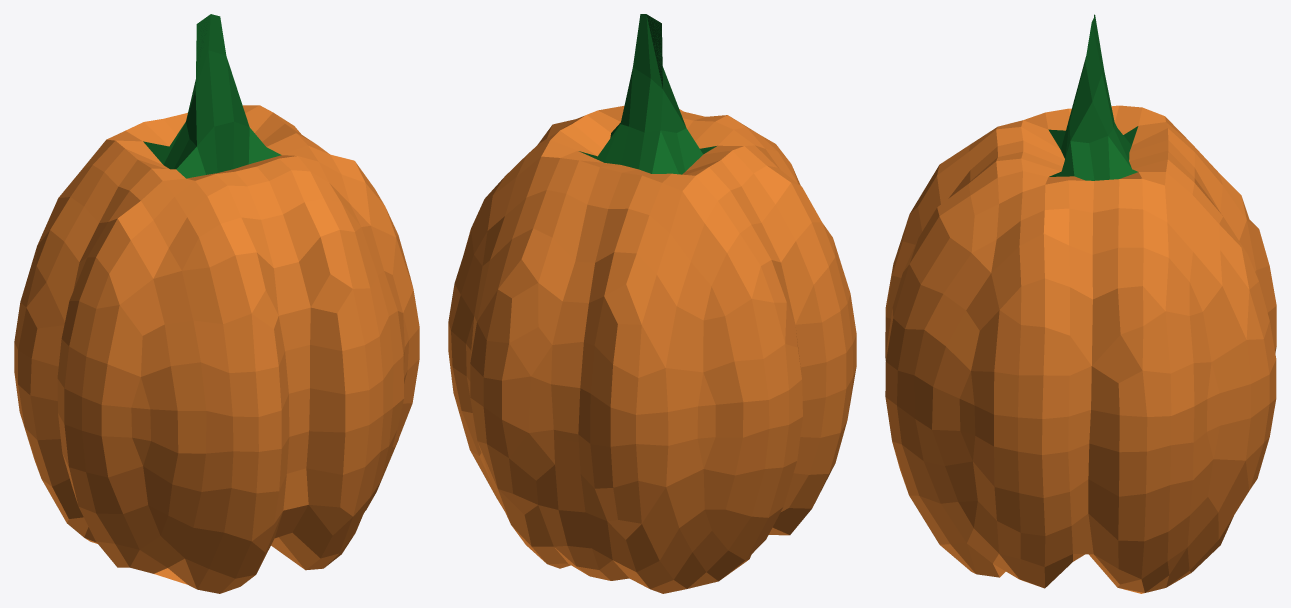
The model's file is PumpkinColor3.fbx.
The picture shows the model from 3 angles, left to right: view 1: azimuth 30°, elevation 25°; view 2: azimuth 150°, elevation 25°; view 3: azimuth 270°, elevation 25°; orthographic projection.
Visible parts, largest first — view 1: Group14.003; view 2: Group14.003; view 3: Group14.003.
Part boxes in pixels (x1=…): Group14.003: x1=14, y1=14, x2=419, y2=593; Group14.003: x1=448, y1=14, x2=856, y2=593; Group14.003: x1=885, y1=14, x2=1276, y2=593.
Size of the model in its own units: 337 by 503 by 326.
